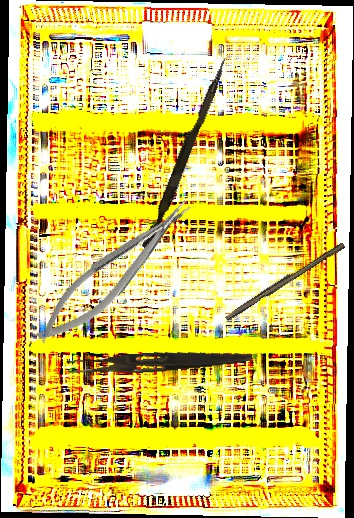Dressing Forceps: (67, 344, 253, 380)
Needle Holder: (24, 192, 206, 354)
Pusher: (141, 54, 229, 252)
Scalpel Handle: (223, 238, 346, 324)
